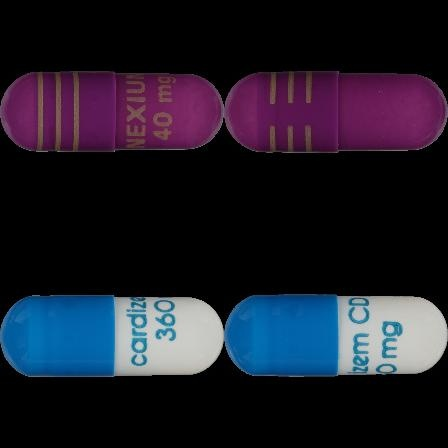0186-5040: (0, 0, 224, 224)
